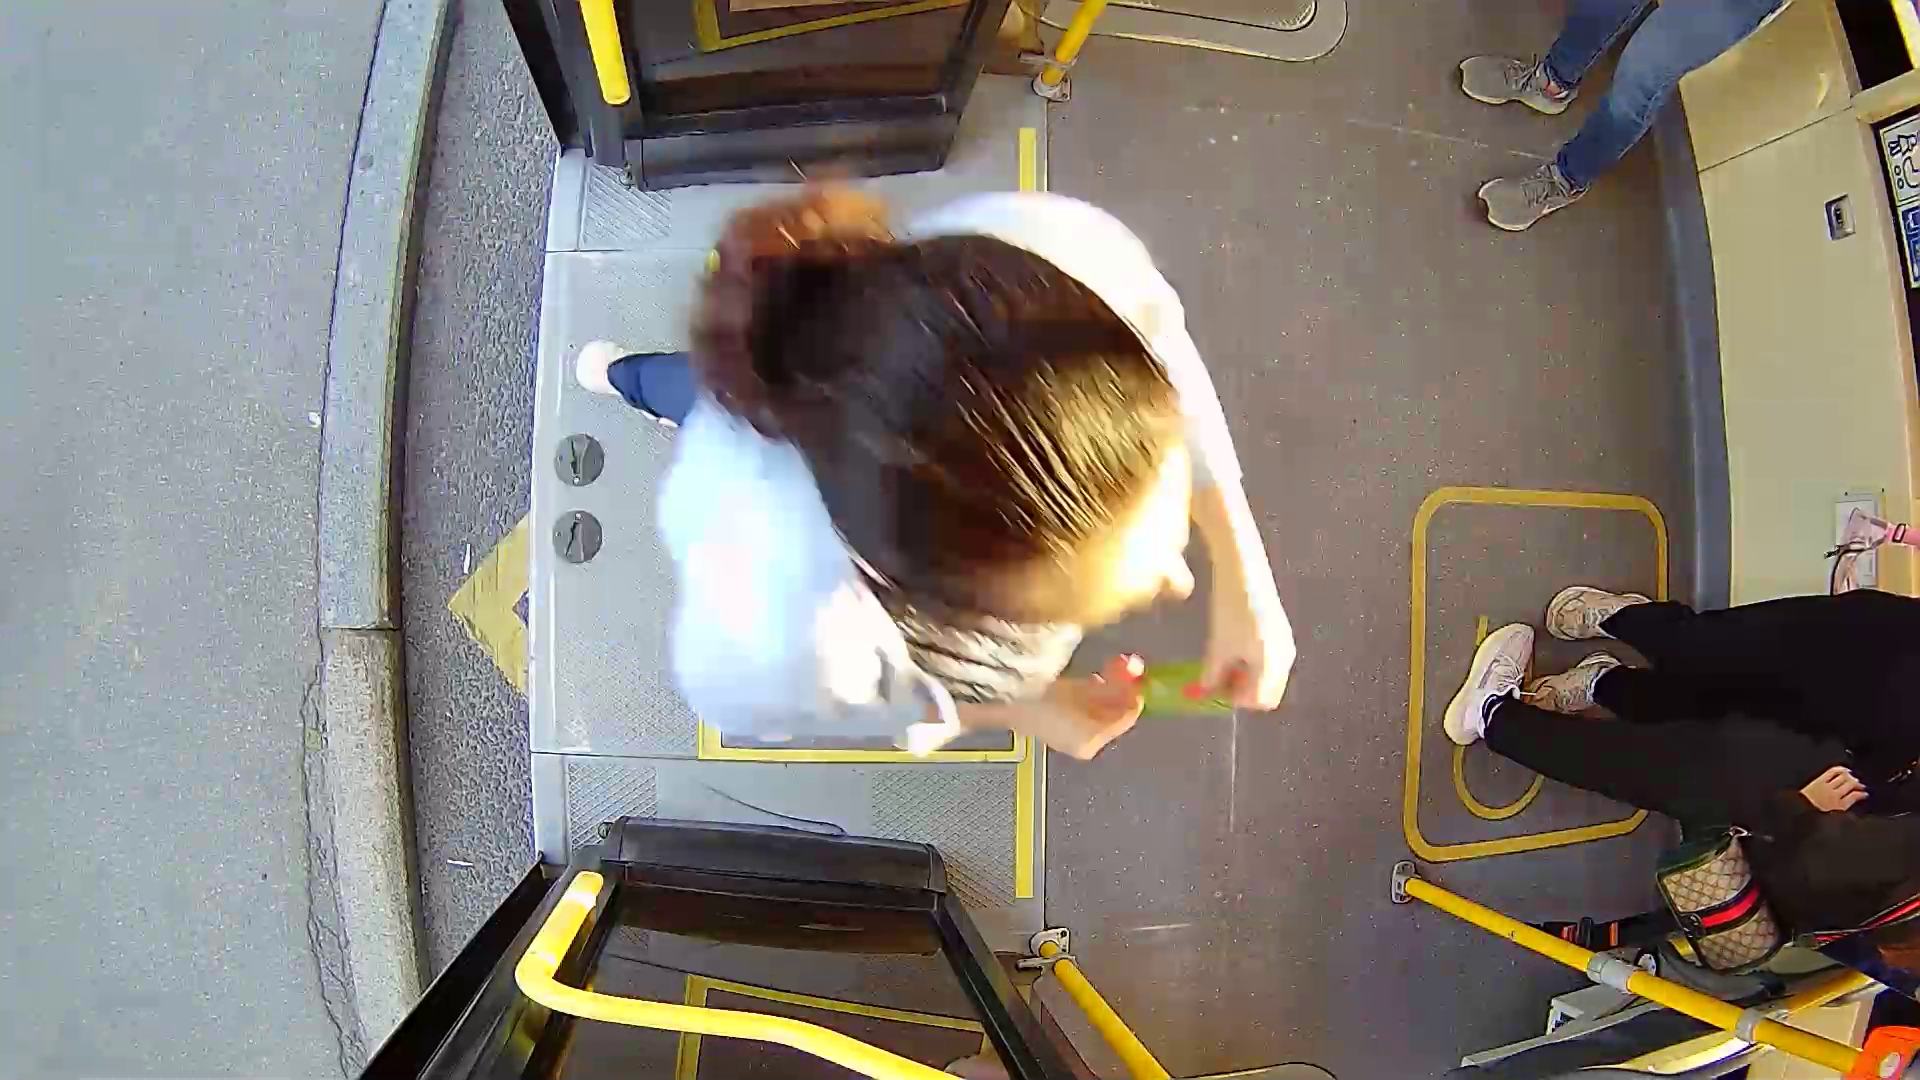person: (546, 186, 1332, 796)
